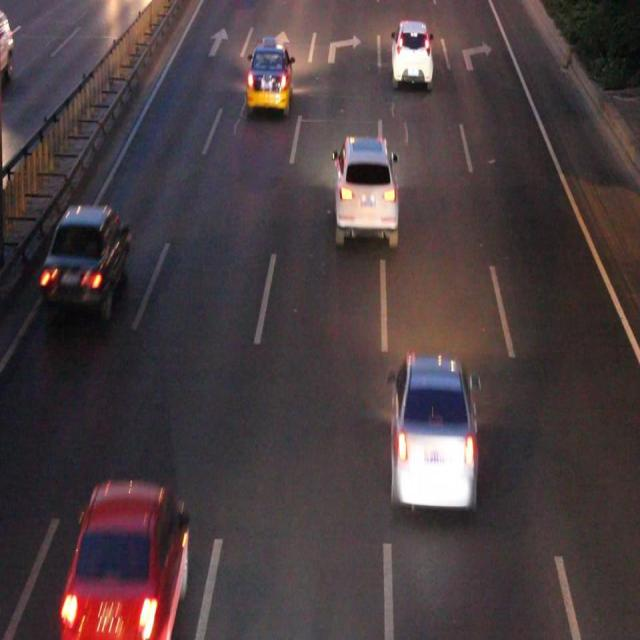car: (68, 480, 188, 631), (391, 358, 473, 507), (41, 205, 128, 308), (333, 139, 396, 240), (246, 46, 291, 107), (390, 21, 431, 81)
